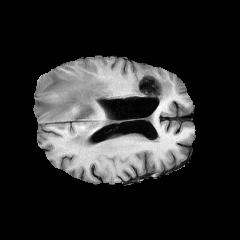glioma: (35, 70, 172, 145)
